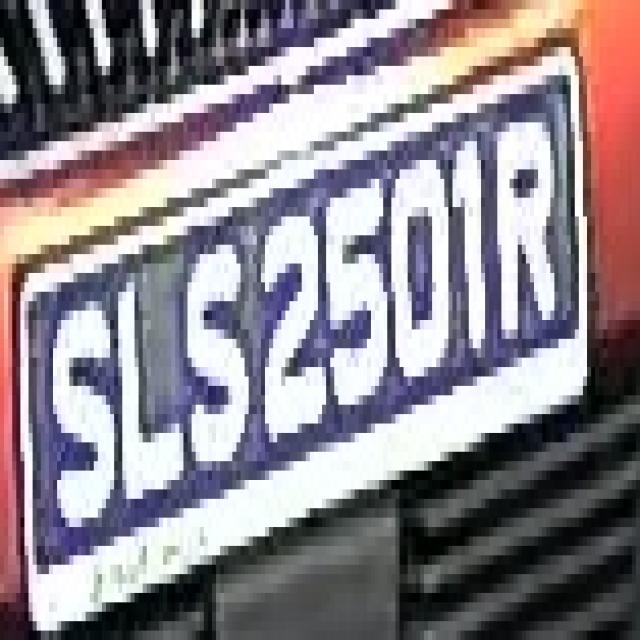0: (384, 170, 444, 396)
1: (444, 104, 494, 367)
2: (249, 188, 318, 480)
5: (318, 188, 391, 424)
L: (114, 236, 180, 490)
R: (485, 85, 567, 376)
S: (33, 292, 114, 536), (179, 254, 253, 490)
